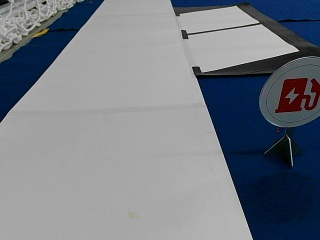battery: (259, 56, 319, 127)
